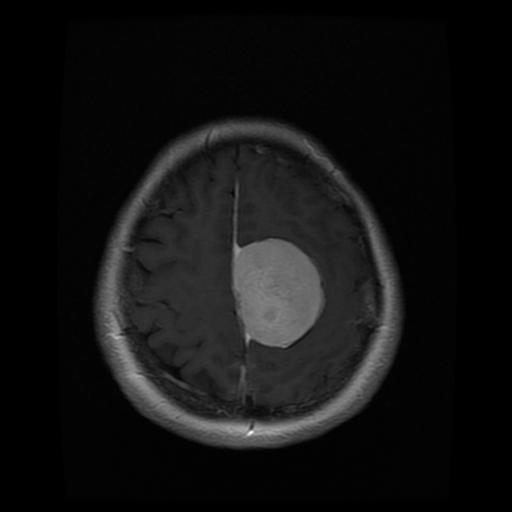Menigiomia_tumour: (230, 237, 325, 347)
